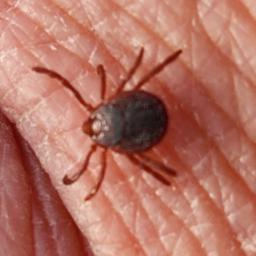Rhipicephalus sanguineus: (31, 47, 184, 202)
